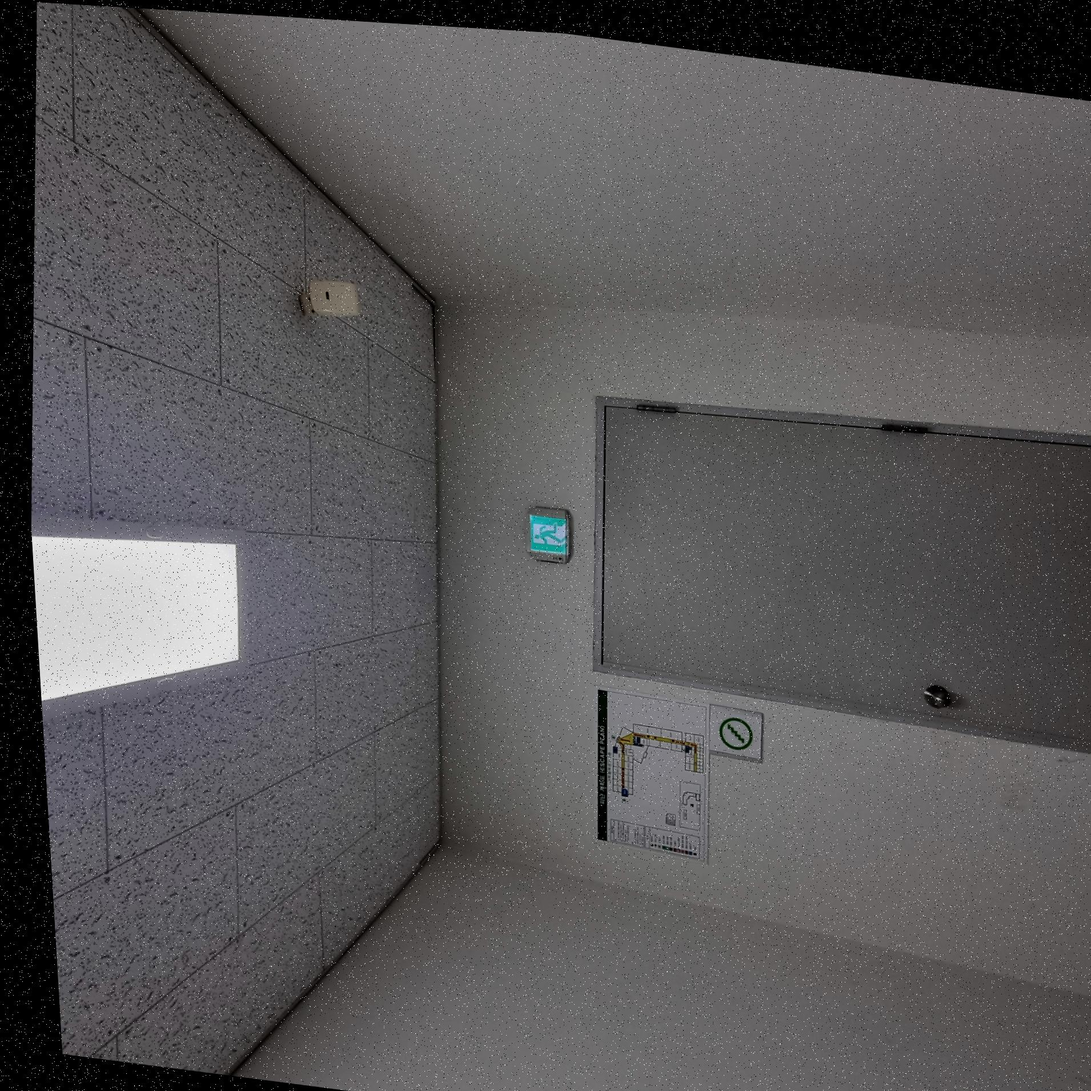emergency_exit: (707, 704, 764, 761), (526, 506, 571, 563)
